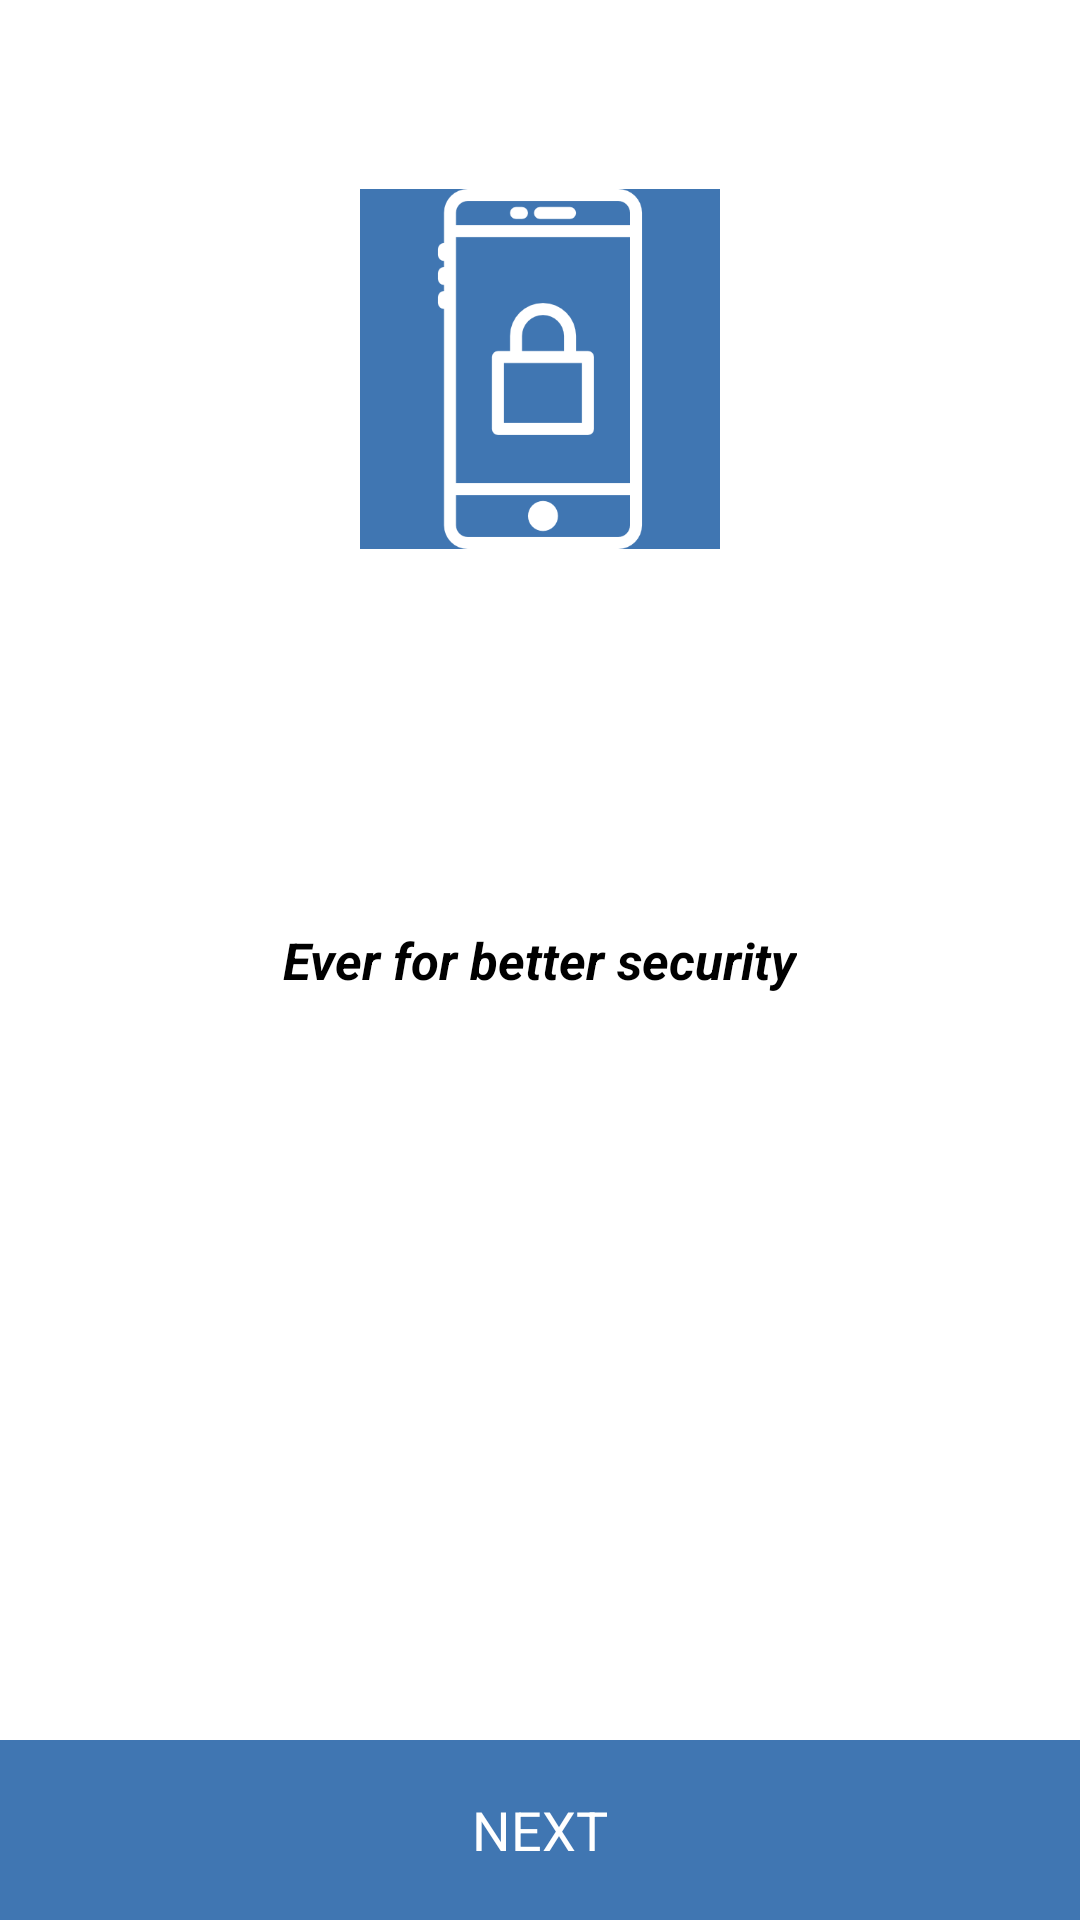

Icon bounding boxes for this 1080*1920 phone screenshot, format [x1, y1, x2, y2]:
locker: [360, 189, 720, 549]
